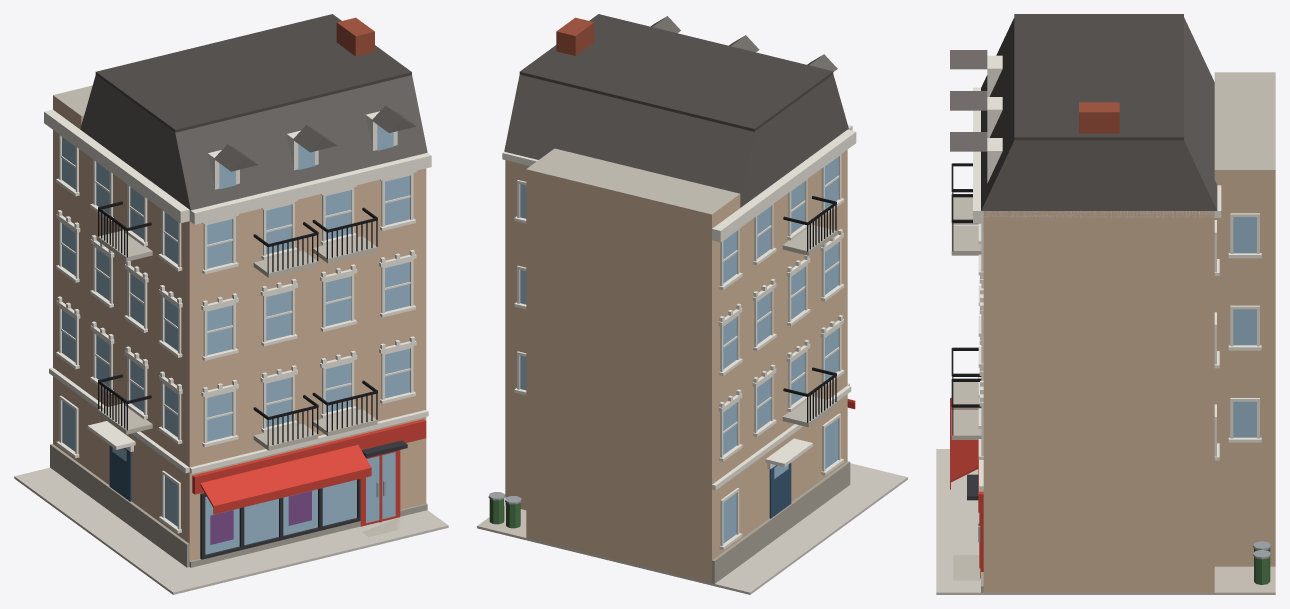
File: Blok_kose_4k_3_Hafif.fbx
3 views of the same model, side by side, from view 1: azimuth 30°, elevation 25°; view 2: azimuth 150°, elevation 25°; view 3: azimuth 270°, elevation 25° (orthographic). The views are drawn at different scales.
Visible parts, largest first — view 1: Blok_kose_4k_3_Hafif; view 2: Blok_kose_4k_3_Hafif; view 3: Blok_kose_4k_3_Hafif.
Boxes of the visible parts, <box> form: Blok_kose_4k_3_Hafif: <box>14,14,448,594</box>; Blok_kose_4k_3_Hafif: <box>477,14,907,594</box>; Blok_kose_4k_3_Hafif: <box>936,14,1275,594</box>.
Size of the model in its own units: 10 by 15.62 by 10.
